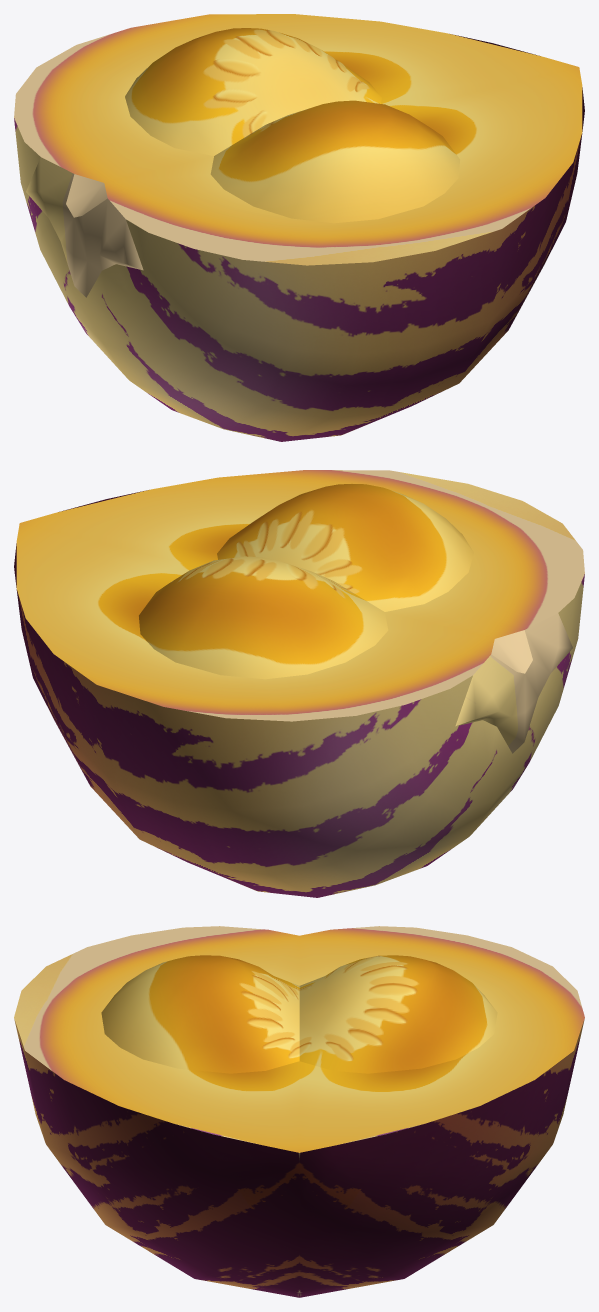
The model's file is Lucuma_Half_01.fbx.
3 renders of one model, top to bottom at view 1: azimuth 30°, elevation 25°; view 2: azimuth 150°, elevation 25°; view 3: azimuth 270°, elevation 25°, orthographic. The views are drawn at different scales.
Parts seen in each view (by area): view 1: Lucuma_Half_01; view 2: Lucuma_Half_01; view 3: Lucuma_Half_01.
Boxes of the visible parts, x1,y1,x2,y2 form: Lucuma_Half_01: [14, 14, 584, 441]; Lucuma_Half_01: [14, 470, 584, 897]; Lucuma_Half_01: [14, 926, 584, 1297].
Size of the model in its own units: 32.03 by 20.27 by 33.44.
